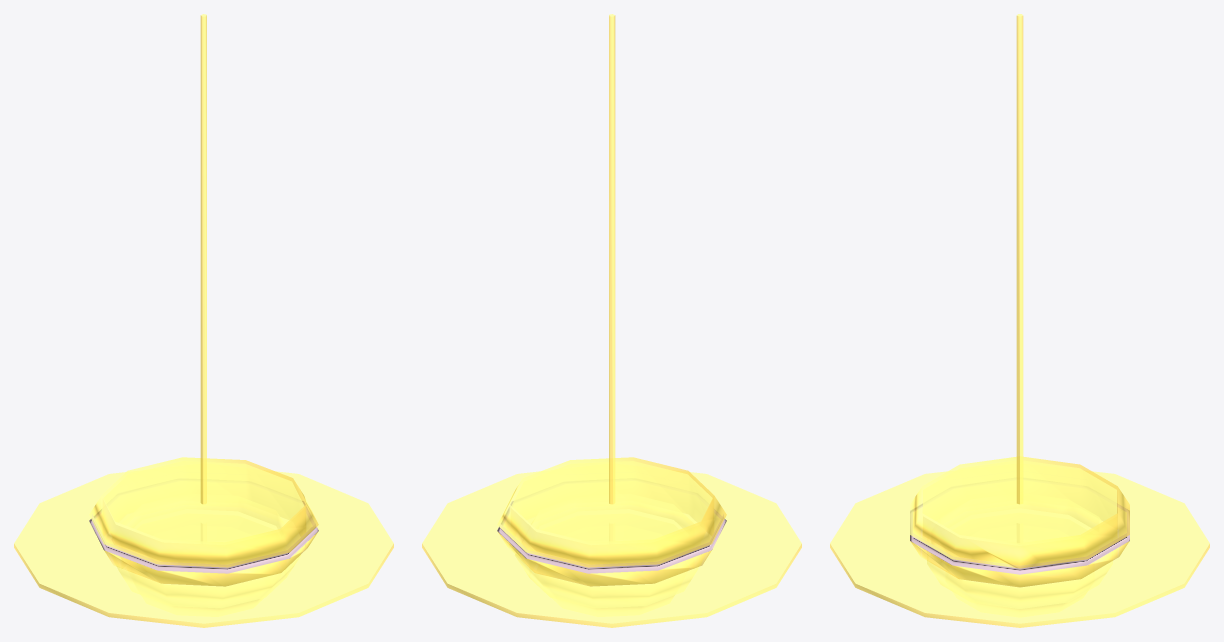
Rendered from chandelier.gltf.
The picture shows the model from 3 angles, left to right: view 1: azimuth 30°, elevation 25°; view 2: azimuth 150°, elevation 25°; view 3: azimuth 270°, elevation 25°; orthographic projection.
Visible parts, largest first — view 1: Model2; view 2: Model2; view 3: Model2.
Part boxes in pixels (bbox=[...]): Model2: bbox=[14, 14, 393, 627]; Model2: bbox=[422, 14, 801, 627]; Model2: bbox=[830, 14, 1209, 627].
Size of the model in its own units: 4.85 by 8.09 by 4.85.
